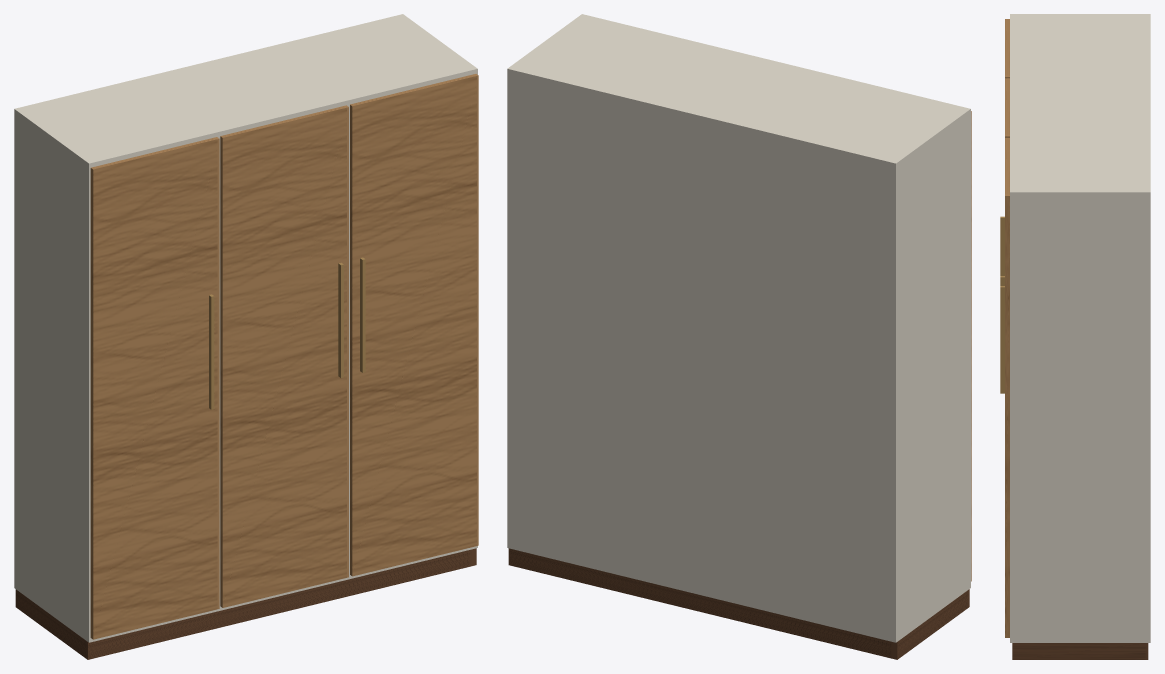
File: noi-that-tu-ao.glb
3 renders of one model, left to right at view 1: azimuth 30°, elevation 25°; view 2: azimuth 150°, elevation 25°; view 3: azimuth 270°, elevation 25°, orthographic. The views are drawn at different scales.
Size of the model in its own units: 1.8 by 2.2 by 0.64.
4 materials, 2 textured.
